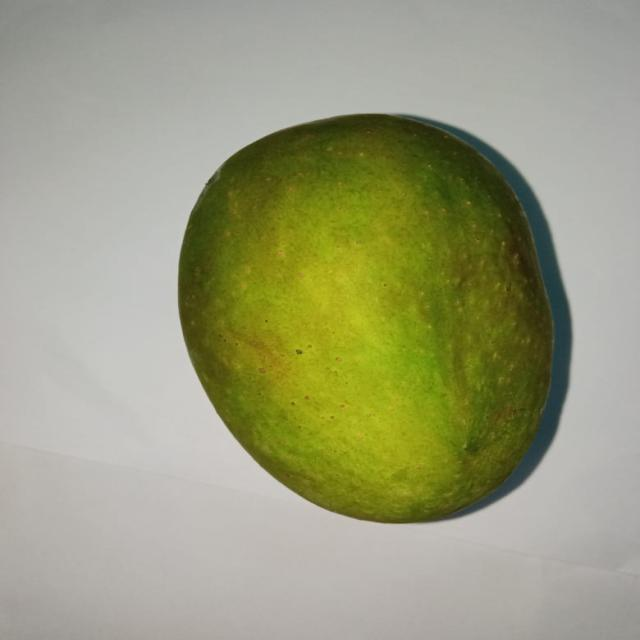fresh_mango: (176, 113, 555, 524)
